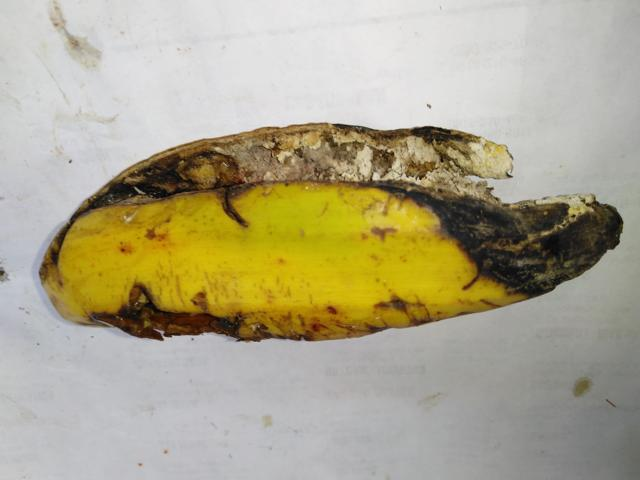rotten: (36, 118, 633, 377)
